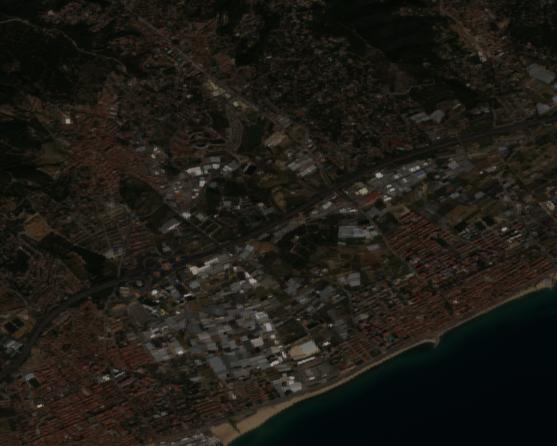Agricola: (98, 261, 349, 382), (159, 182, 322, 247)
Industria: (314, 146, 491, 209), (188, 116, 339, 186)
Poblacion: (335, 174, 557, 374), (1, 236, 189, 446), (13, 60, 172, 242), (393, 1, 557, 133), (28, 0, 252, 87)
